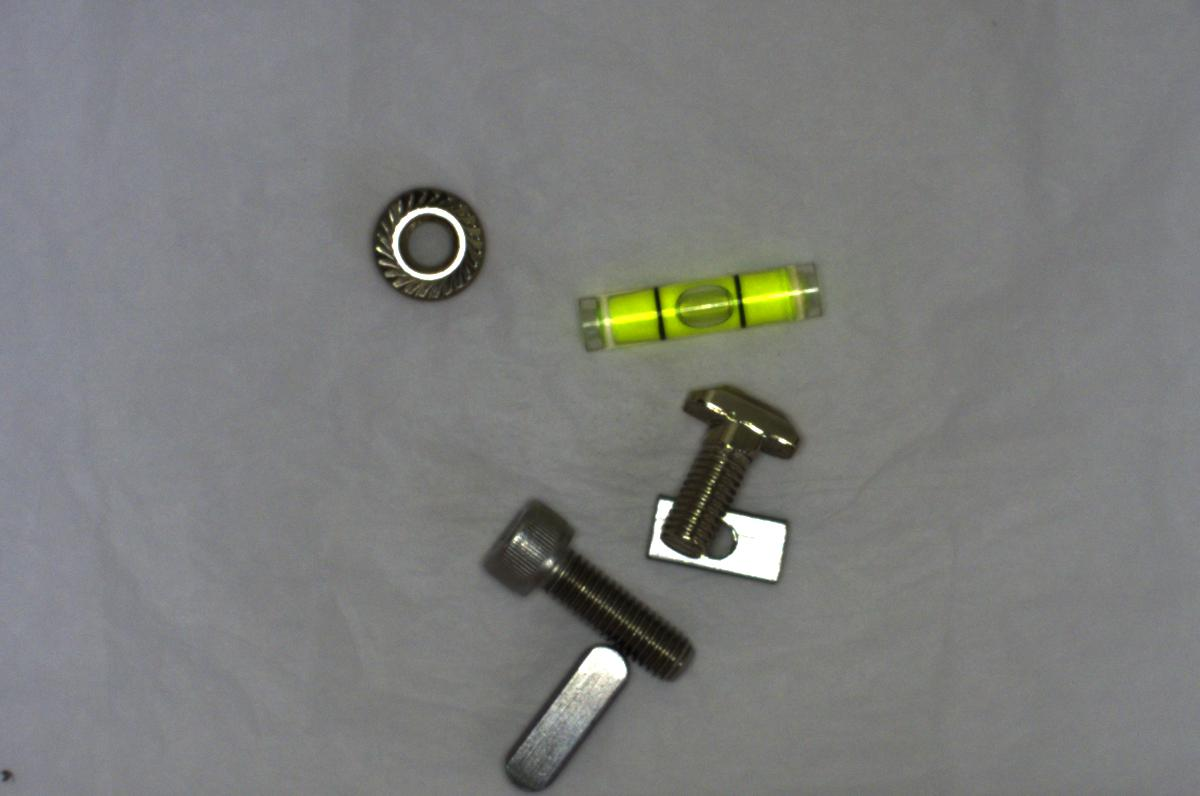Flange nut: (367, 171, 496, 308)
Hexagon screw: (476, 494, 694, 686)
Horizontal bubble: (567, 262, 834, 355)
Keybar: (492, 637, 635, 795)
Rectangular nut: (641, 485, 797, 589)
T-shaped screw: (652, 378, 807, 555)
